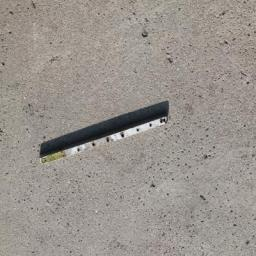FOD: (40, 108, 172, 167)
